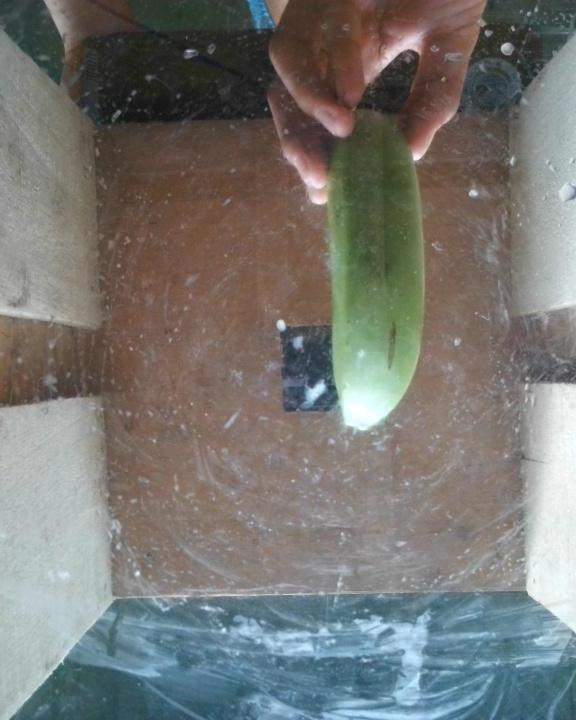CLASS B: (321, 99, 434, 437)
Class A: (381, 313, 407, 382)
